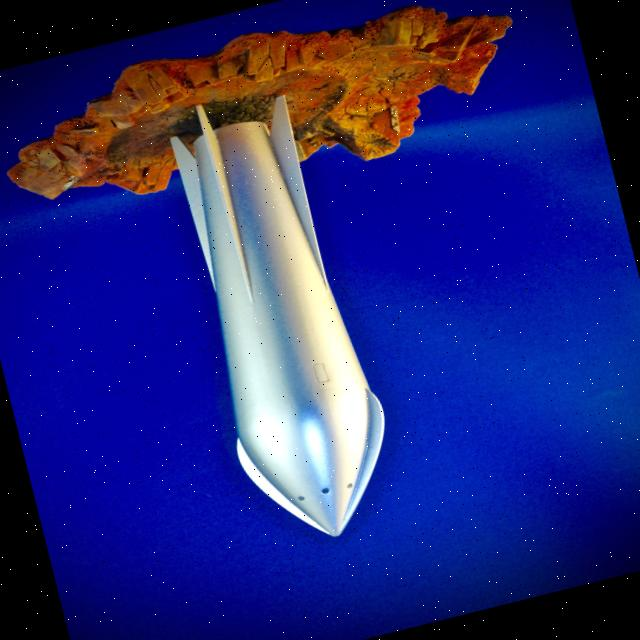rocket: (141, 74, 422, 572)
